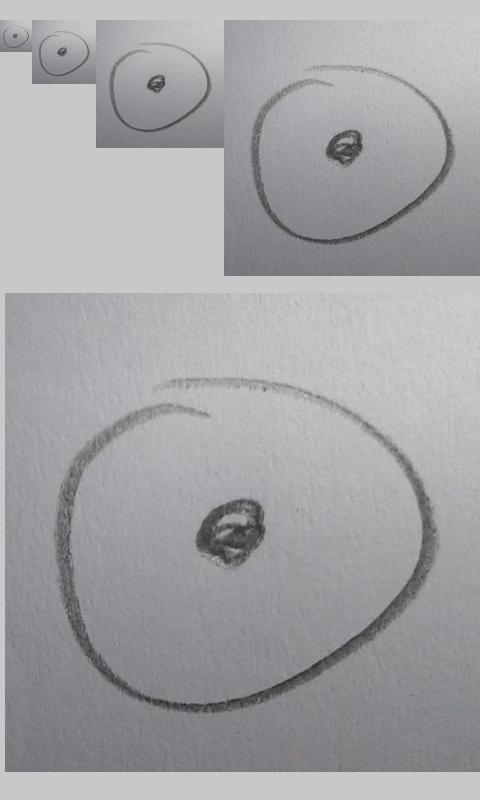radio_button: (57, 374, 438, 714), (248, 61, 455, 247), (109, 41, 213, 133), (38, 30, 90, 77), (2, 24, 29, 49)
